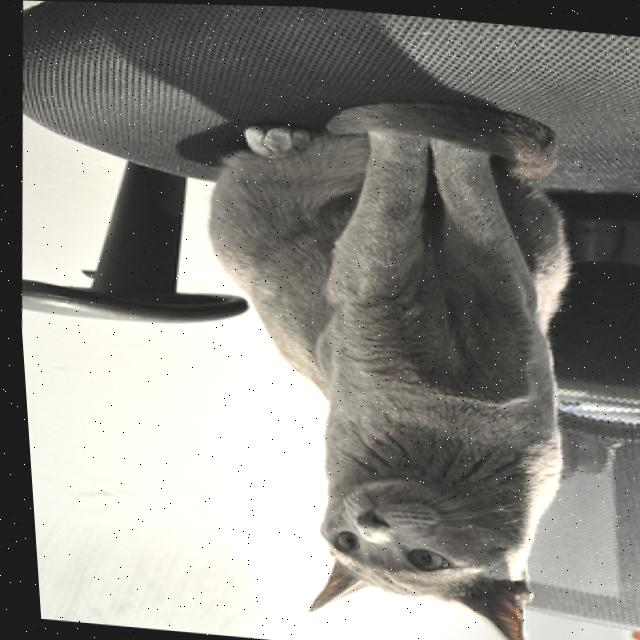Russian Blue: (168, 71, 604, 640)
